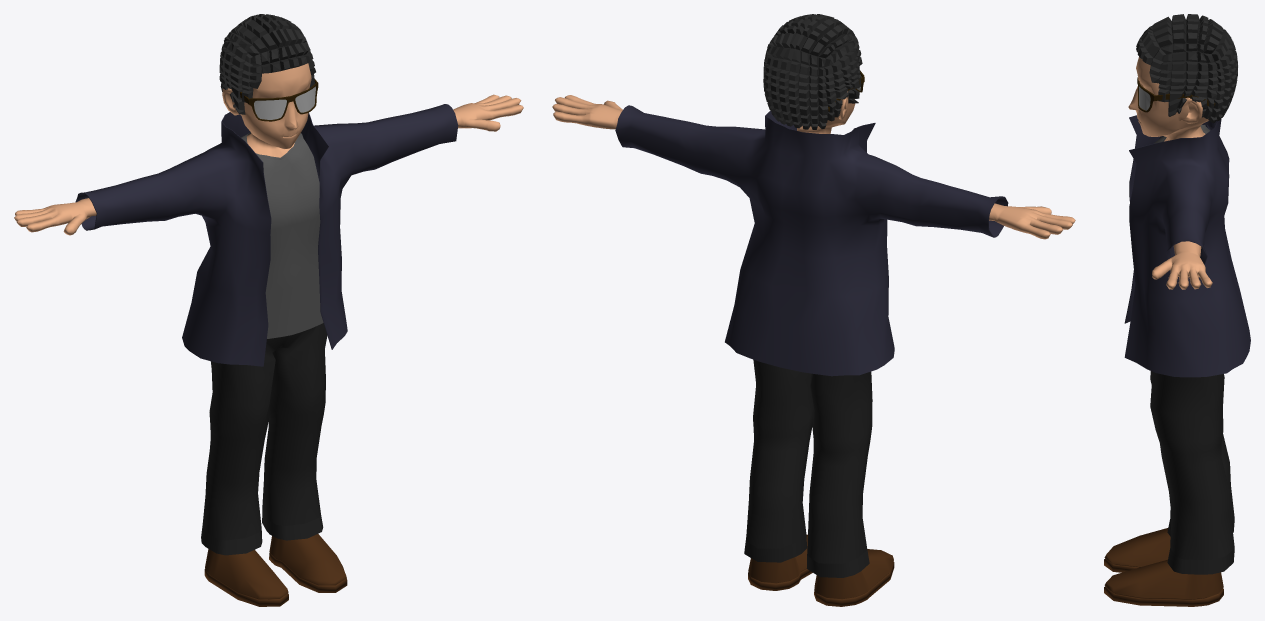
The model's file is chara_ver1.0.fbx.
The picture shows the model from 3 angles, left to right: view 1: azimuth 30°, elevation 25°; view 2: azimuth 150°, elevation 25°; view 3: azimuth 270°, elevation 25°; orthographic projection. The views are drawn at different scales.
Visible parts, largest first — view 1: jacket, pants, shirts, body, shoes, hair, sunglasses; view 2: jacket, pants, hair, shoes, body; view 3: jacket, pants, hair, shoes, body, sunglasses, hair2.
Part boxes in pixels (<box>): jacket: <box>75,104,458,366</box>; pants: <box>201,323,327,555</box>; shirts: <box>241,132,323,338</box>; body: <box>14,63,523,235</box>; shoes: <box>204,534,347,606</box>; hair: <box>219,14,315,114</box>; sunglasses: <box>240,79,318,121</box>; jacket: <box>615,105,1008,376</box>; pants: <box>744,359,872,577</box>; hair: <box>763,14,862,129</box>; shoes: <box>748,534,894,606</box>; body: <box>552,91,1075,239</box>; jacket: <box>1124,115,1250,377</box>; pants: <box>1150,371,1234,574</box>; hair: <box>1136,14,1237,123</box>; shoes: <box>1104,528,1223,606</box>; body: <box>1128,57,1212,289</box>; sunglasses: <box>1137,77,1215,112</box>; hair2: <box>1148,20,1218,115</box>.
Bounding box in the file's own units: 186 × 194 × 46.08.
